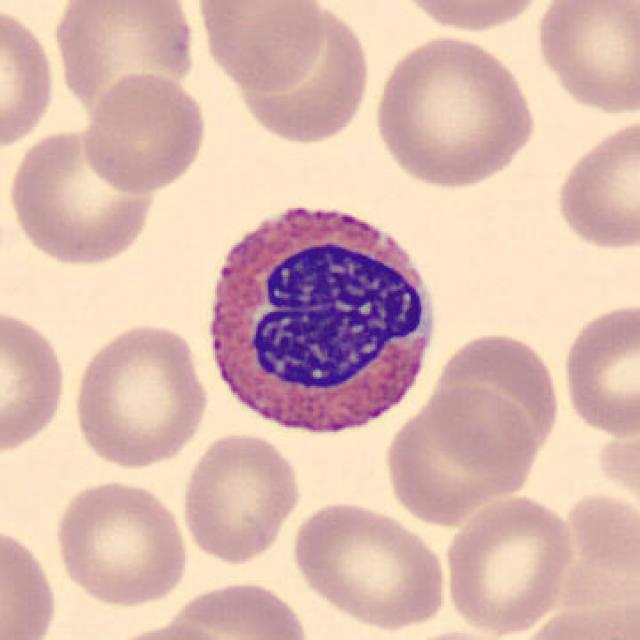Eosinophil: (192, 190, 450, 452)
RBC: (368, 32, 542, 190), (380, 379, 544, 525), (284, 497, 452, 633), (5, 123, 158, 270), (67, 319, 212, 471), (439, 492, 578, 636), (50, 476, 192, 608), (240, 5, 374, 144), (49, 0, 199, 123), (425, 340, 560, 476), (178, 428, 304, 566), (78, 70, 210, 196), (190, 0, 329, 95), (530, 0, 638, 118), (550, 112, 638, 255), (551, 481, 640, 614), (558, 298, 638, 441), (0, 304, 71, 458), (165, 576, 314, 640), (0, 3, 60, 155), (0, 520, 60, 640), (389, 0, 554, 35), (515, 597, 638, 640), (97, 620, 236, 640), (380, 627, 524, 640)
